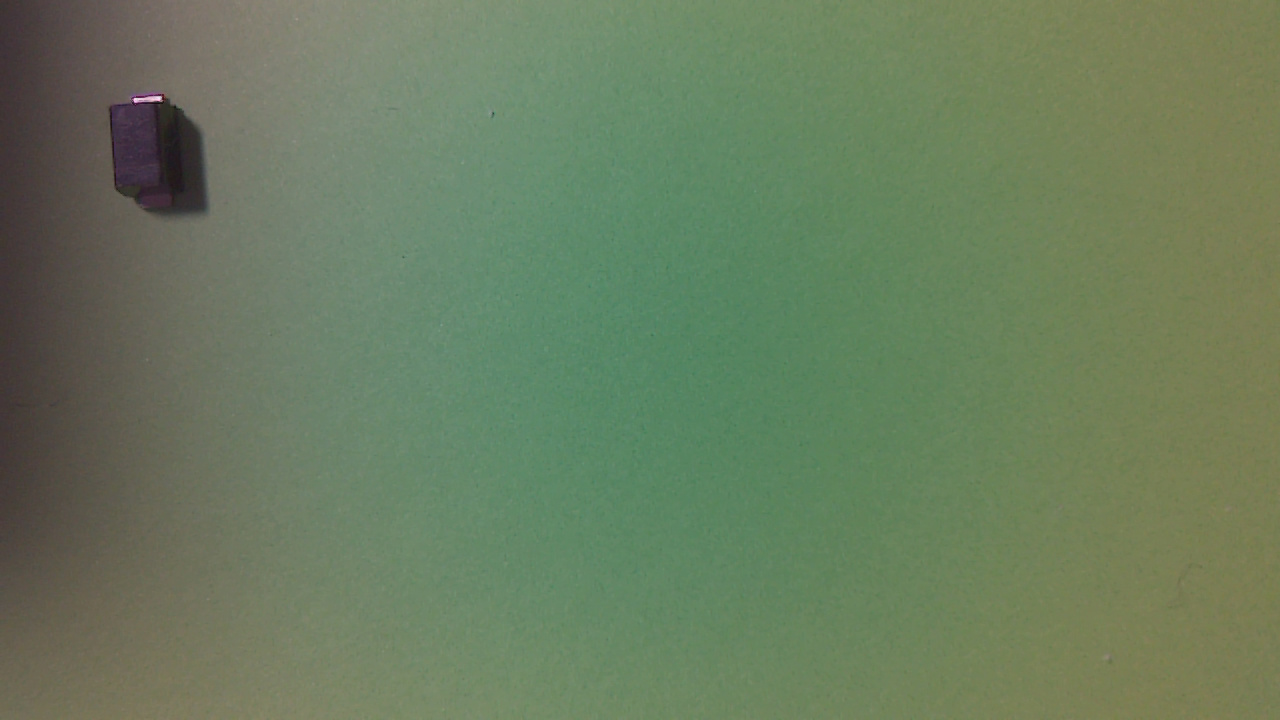Diode: (109, 94, 195, 214)
